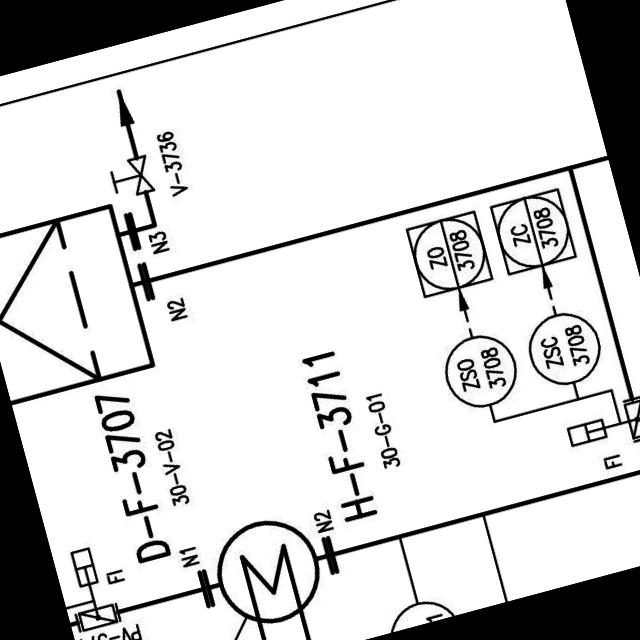BVWA: (55, 537, 125, 636), (556, 388, 640, 461)
HE: (204, 508, 330, 634)
HV: (104, 151, 154, 202)
